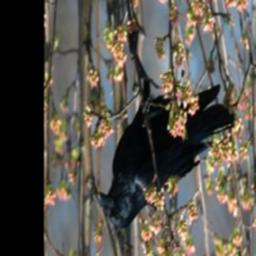Crow: (92, 35, 232, 236)
